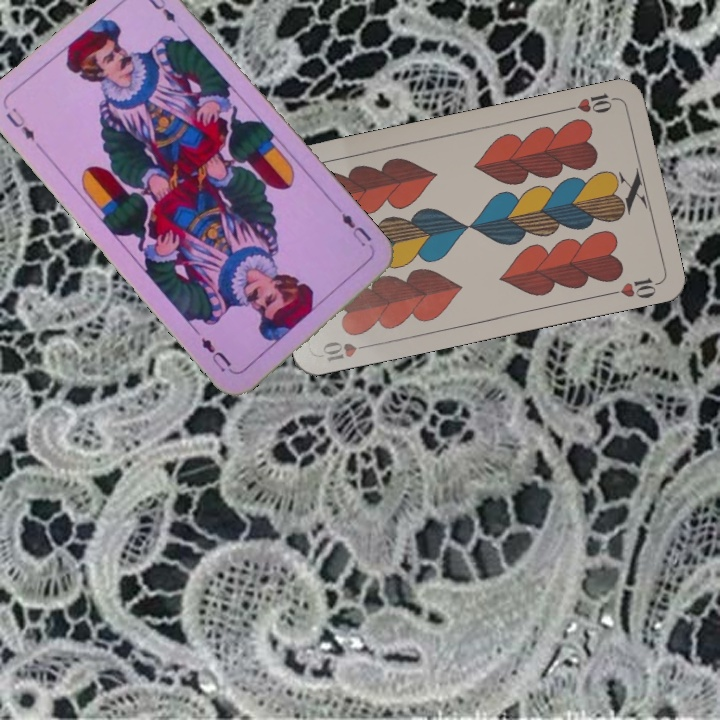EU: (337, 208, 374, 250), (1, 103, 38, 144)
H10: (562, 88, 621, 116), (318, 337, 376, 365)
